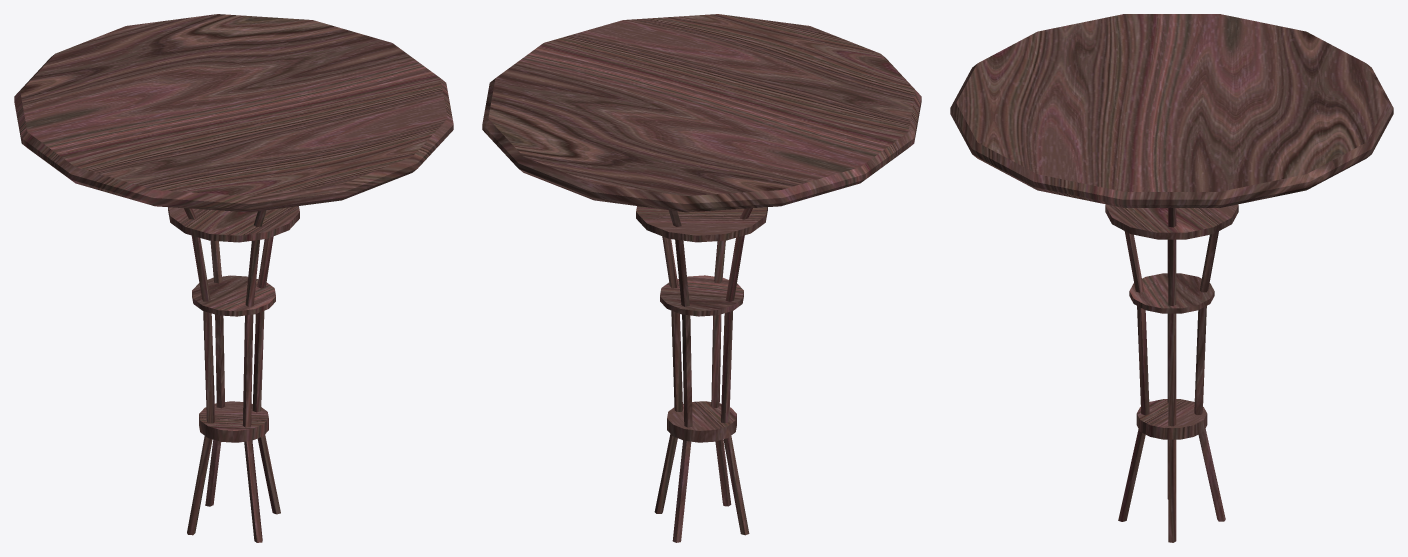
File: Round_table.fbx
The picture shows the model from 3 angles, left to right: view 1: azimuth 30°, elevation 25°; view 2: azimuth 150°, elevation 25°; view 3: azimuth 270°, elevation 25°; orthographic projection.
Visible parts, largest first — view 1: Round_table; view 2: Round_table; view 3: Round_table.
Boxes of the visible parts, x1,y1,x2,y2 form: Round_table: (14, 14, 453, 542); Round_table: (482, 14, 921, 542); Round_table: (950, 14, 1393, 542).
Bounding box in the file's own units: 0.3116 × 0.3318 × 0.3196.
1 material, 1 textured.
